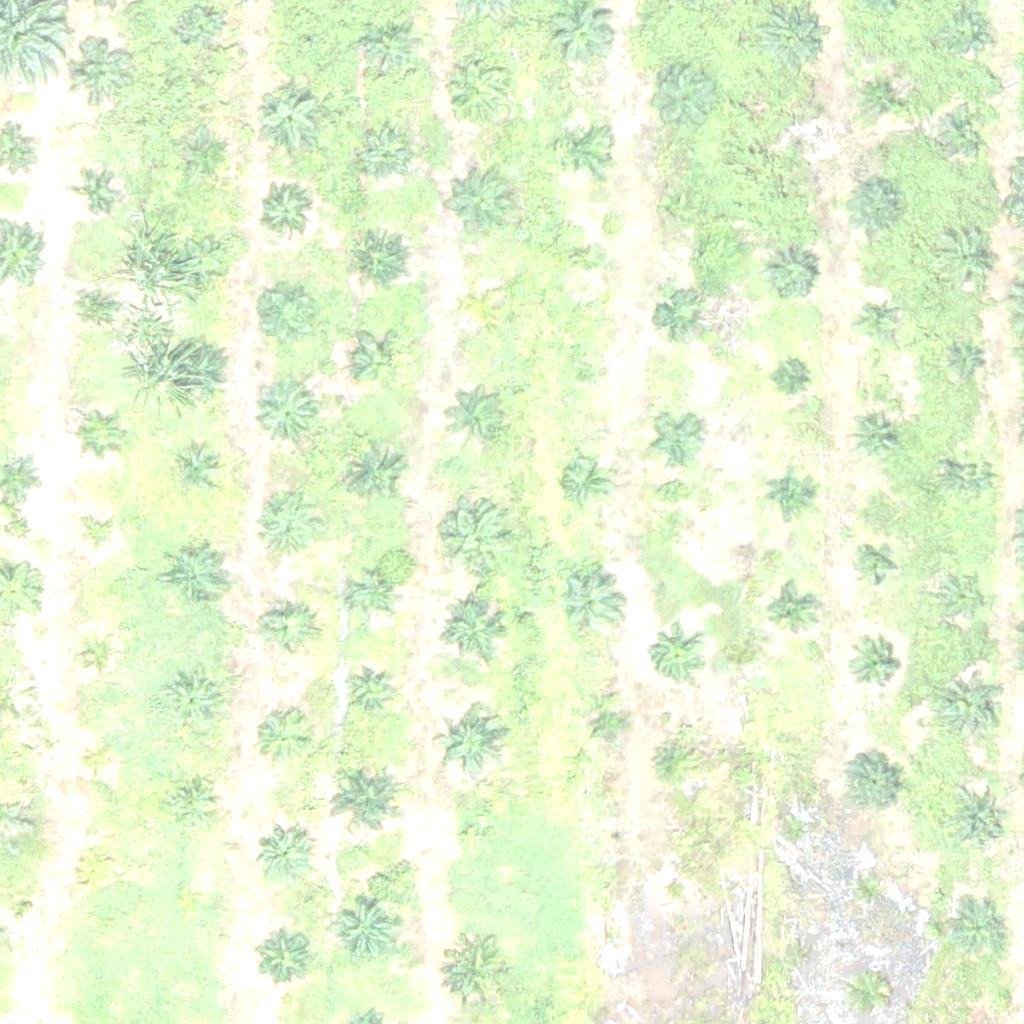Kelapa_Sawit: (324, 757, 411, 845), (432, 708, 507, 784), (246, 278, 321, 354), (327, 888, 402, 963), (644, 59, 719, 134), (250, 706, 313, 769), (255, 499, 318, 562), (253, 823, 316, 886), (947, 789, 1010, 852), (561, 572, 624, 635), (842, 748, 905, 811), (444, 940, 507, 1003), (168, 542, 231, 605), (164, 672, 227, 735), (169, 342, 232, 405), (65, 41, 128, 104), (449, 171, 512, 234), (348, 226, 411, 289), (358, 16, 421, 79), (842, 176, 905, 239), (254, 383, 316, 446), (251, 926, 313, 989), (941, 679, 1003, 742), (344, 443, 406, 506), (444, 600, 506, 663), (446, 510, 509, 572), (452, 388, 514, 451), (255, 85, 317, 148), (760, 7, 822, 70), (449, 61, 511, 124), (764, 585, 814, 636), (848, 639, 898, 690), (173, 446, 223, 497), (941, 233, 991, 284), (557, 121, 607, 172), (764, 246, 814, 297), (857, 68, 907, 119), (582, 698, 632, 749), (644, 733, 694, 784), (180, 240, 230, 291), (262, 605, 312, 655), (954, 908, 1004, 958), (946, 451, 996, 501), (766, 468, 816, 518), (654, 413, 704, 463), (354, 335, 404, 385), (561, 456, 611, 506), (649, 631, 699, 681), (167, 773, 217, 823), (262, 187, 312, 237), (356, 128, 406, 178), (656, 293, 706, 343), (941, 106, 991, 156), (940, 7, 990, 57), (852, 296, 902, 346), (935, 570, 985, 620), (851, 410, 901, 460), (343, 666, 392, 717), (87, 416, 125, 454), (664, 189, 702, 227), (855, 545, 893, 583), (180, 7, 218, 45), (187, 133, 225, 171), (80, 517, 118, 555), (78, 636, 116, 674), (80, 743, 118, 781), (76, 843, 114, 881), (353, 575, 390, 613), (78, 178, 115, 215), (82, 288, 119, 325), (787, 122, 812, 147), (953, 351, 978, 376), (776, 365, 801, 390), (575, 358, 600, 383), (575, 242, 600, 267), (470, 296, 495, 321), (659, 876, 684, 901), (460, 823, 485, 848), (297, 33, 322, 58)
